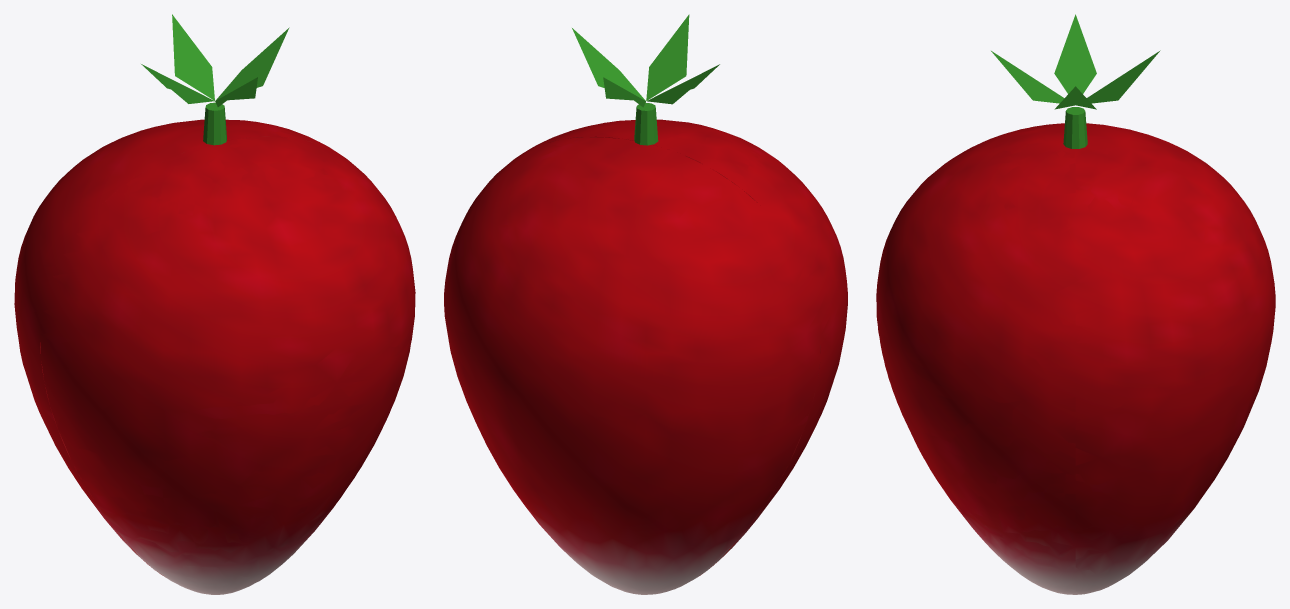
The model's file is radis.glb.
3 views of the same model, side by side, from view 1: azimuth 30°, elevation 25°; view 2: azimuth 150°, elevation 25°; view 3: azimuth 270°, elevation 25° (orthographic).
Parts seen in each view (by area): view 1: entier_peau, moitie_B_peau, entier_extra0, moitie_A_peau; view 2: entier_peau, moitie_A_peau, moitie_B_peau, entier_extra0; view 3: entier_peau, moitie_B_peau, moitie_A_peau, entier_extra0.
Boxes of the visible parts, x1,y1,x2,y2 form: entier_peau: (14, 119, 415, 594); moitie_B_peau: (41, 136, 415, 594); entier_extra0: (141, 14, 289, 145); moitie_A_peau: (14, 120, 311, 552); entier_peau: (444, 119, 847, 594); moitie_A_peau: (444, 137, 819, 594); moitie_B_peau: (531, 120, 847, 561); entier_extra0: (572, 14, 719, 145); entier_peau: (876, 123, 1275, 594); moitie_B_peau: (876, 124, 1075, 594); moitie_A_peau: (1075, 123, 1274, 594); entier_extra0: (991, 14, 1160, 148).
Size of the model in its own units: 1.31 by 1.95 by 1.31.
